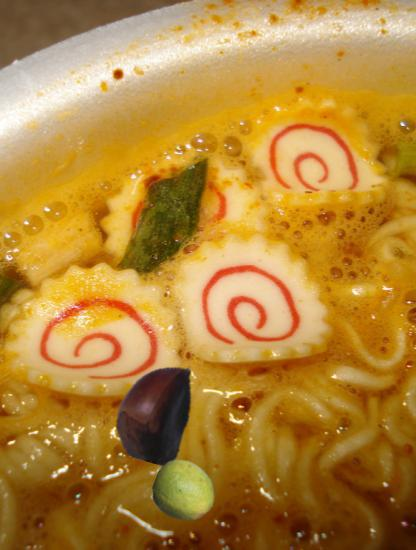Chestnut: (104, 360, 206, 462)
Limes: (153, 459, 218, 524)
